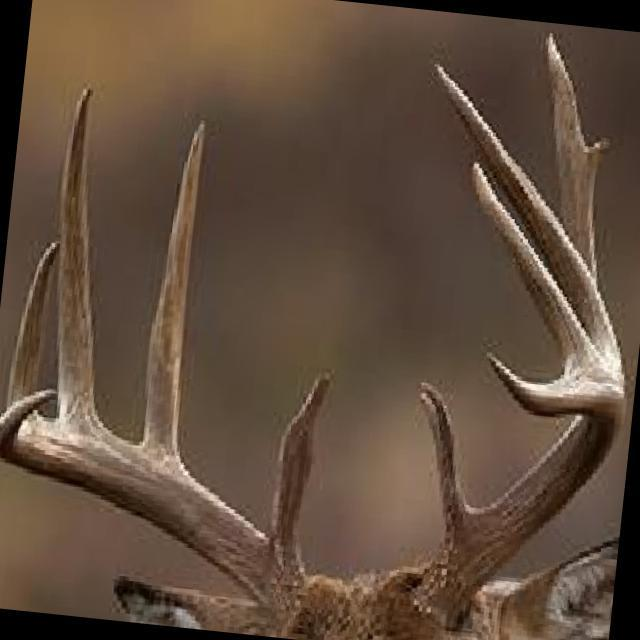L-F: (413, 351, 625, 631)
L-G1: (419, 379, 476, 540)
L-G4: (469, 159, 611, 378)
R-F: (0, 389, 316, 629)
R-G1: (267, 368, 335, 557)
R-G2: (141, 116, 207, 470)
R-G3: (56, 85, 107, 432)
